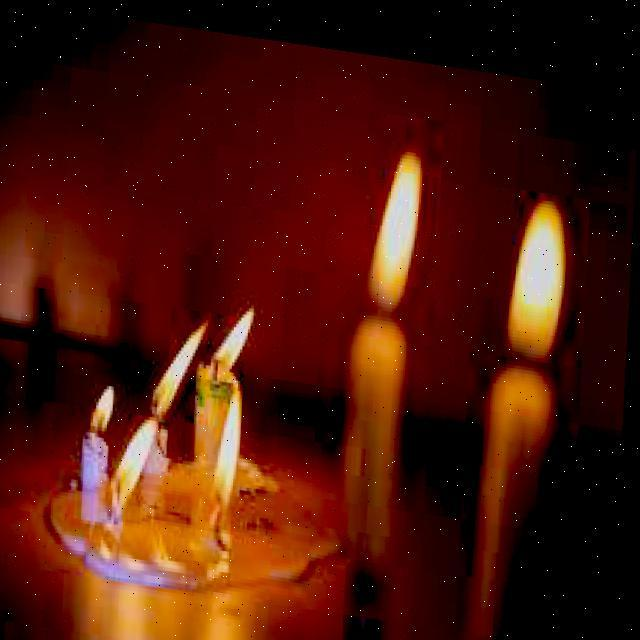Fire: (352, 126, 443, 318), (500, 172, 572, 350), (144, 298, 214, 425), (106, 410, 166, 508), (206, 284, 266, 368), (69, 370, 127, 433)
